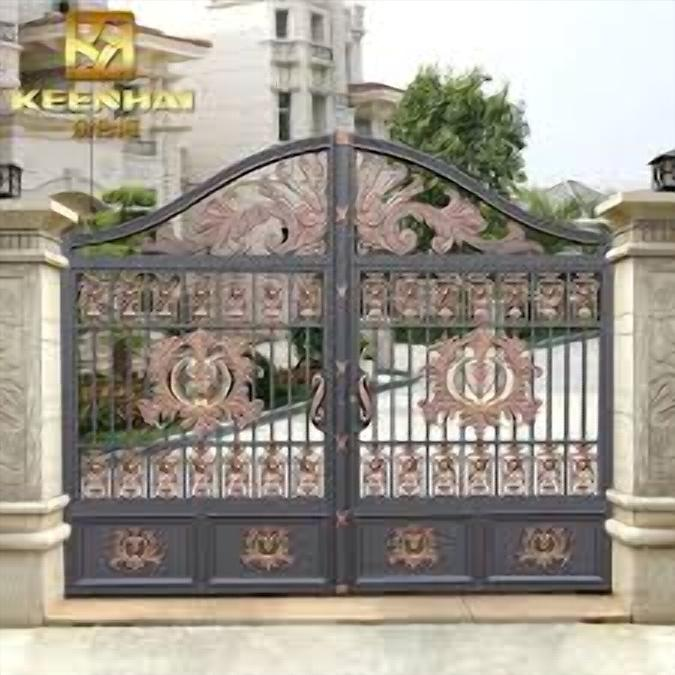Building: (0, 0, 421, 329)
Gate: (61, 130, 614, 598)
Window-without-grill: (277, 89, 293, 137), (312, 91, 327, 135), (308, 8, 324, 42), (274, 7, 290, 39)
